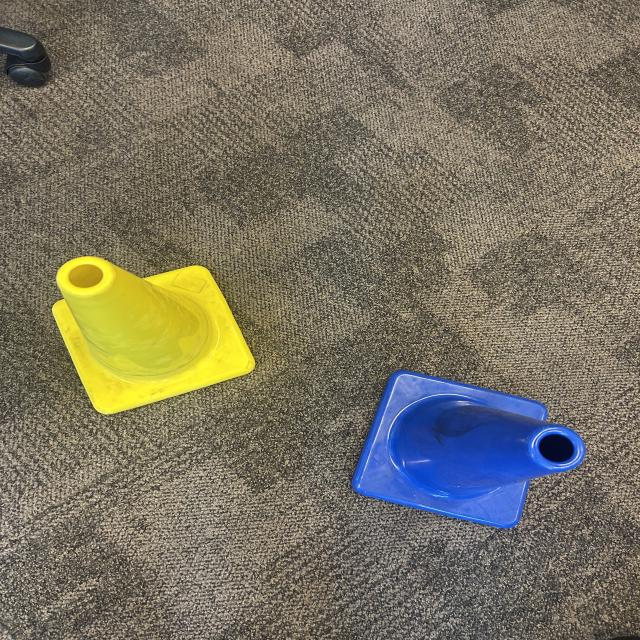blue_cone: (353, 370, 586, 529)
yellow_cone: (52, 255, 258, 416)
